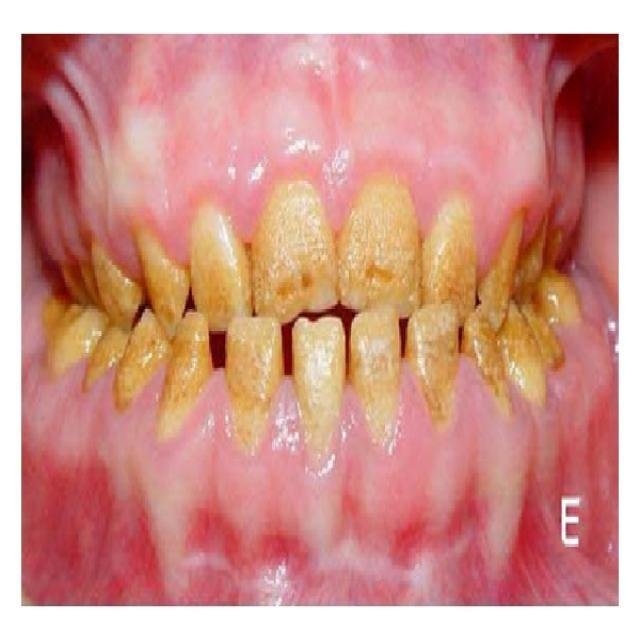LLCI_sdecay: (349, 312, 405, 452)
LLC_sdecay: (466, 312, 515, 418)
LLLI_sdecay: (406, 302, 462, 428)
LRCI_sdecay: (293, 318, 349, 464)
LRC_sdecay: (111, 306, 171, 413)
LRLI_sdecay: (155, 317, 215, 451), (226, 317, 283, 454)
ULCI_sdecay: (339, 177, 423, 314)
ULLI_sdecay: (422, 197, 481, 304)
UR1BC_sdecay: (88, 237, 144, 334)
URCI_sdecay: (249, 179, 337, 319)
URC_sdecay: (131, 218, 186, 304), (481, 209, 528, 299)
URLI_sdecay: (188, 203, 249, 311)
